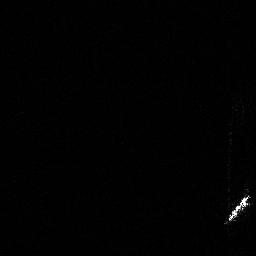ship: (223, 191, 253, 225)
